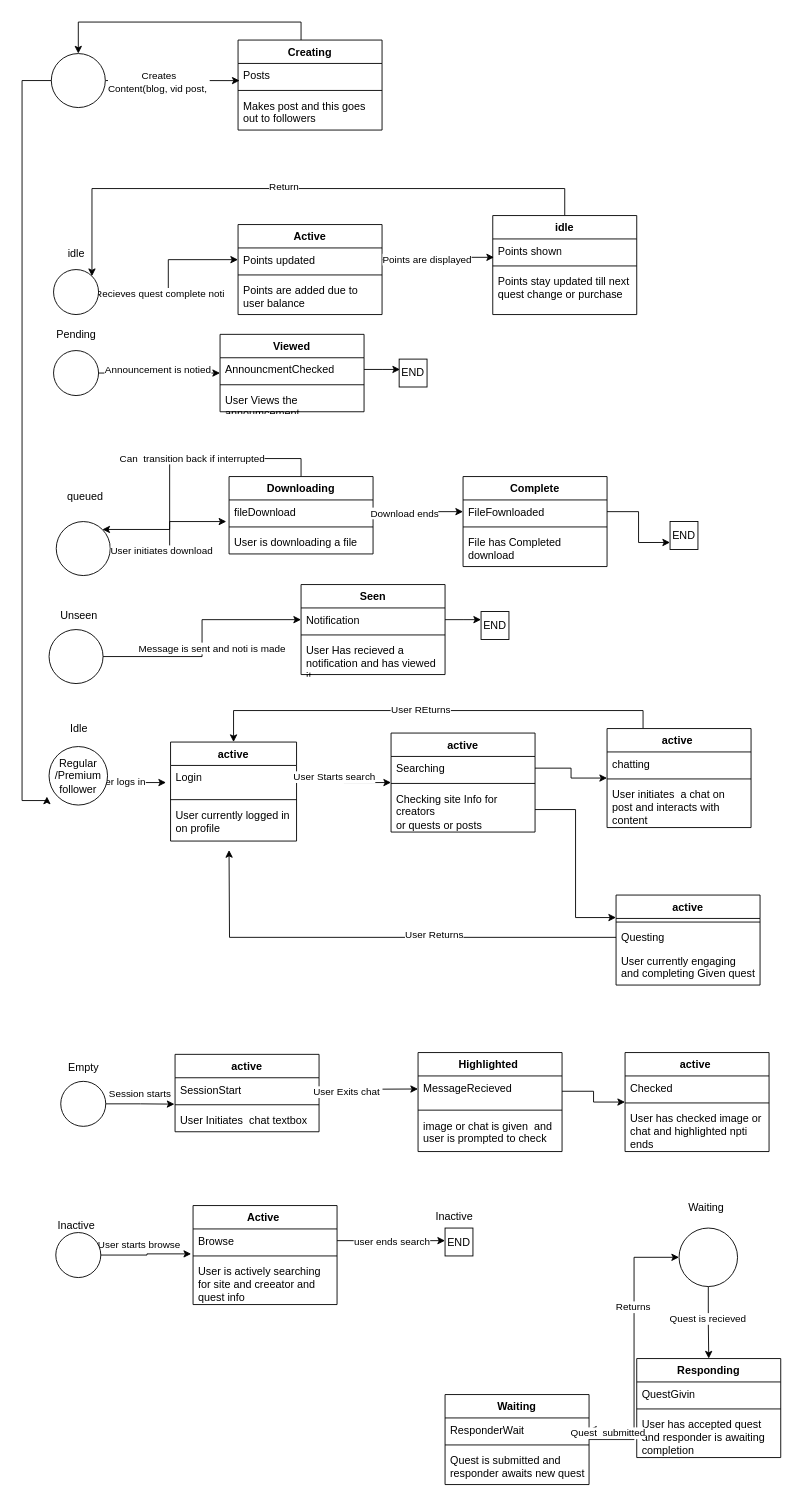
This 797x1503 diagram has some shape labels left out. The centre of each missing label's shape, as x and y in pixels:
Chat: the point at 83,1103
Content Creators: the point at 77,80
Files To Download: the point at 82,548
Info search: the point at 78,1255
new message Noti: the point at 75,656
Point balance: the point at 76,292
Quest Announcements: the point at 76,373
Quest Responding: the point at 708,1257
